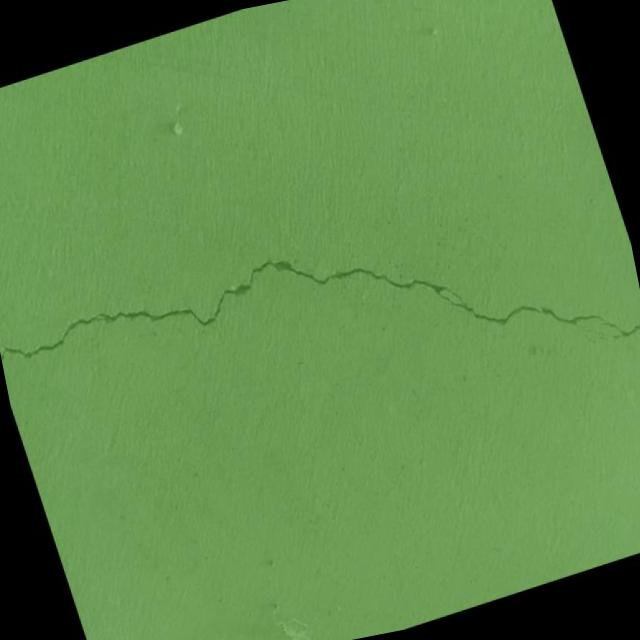crack: (0, 147, 640, 528)
